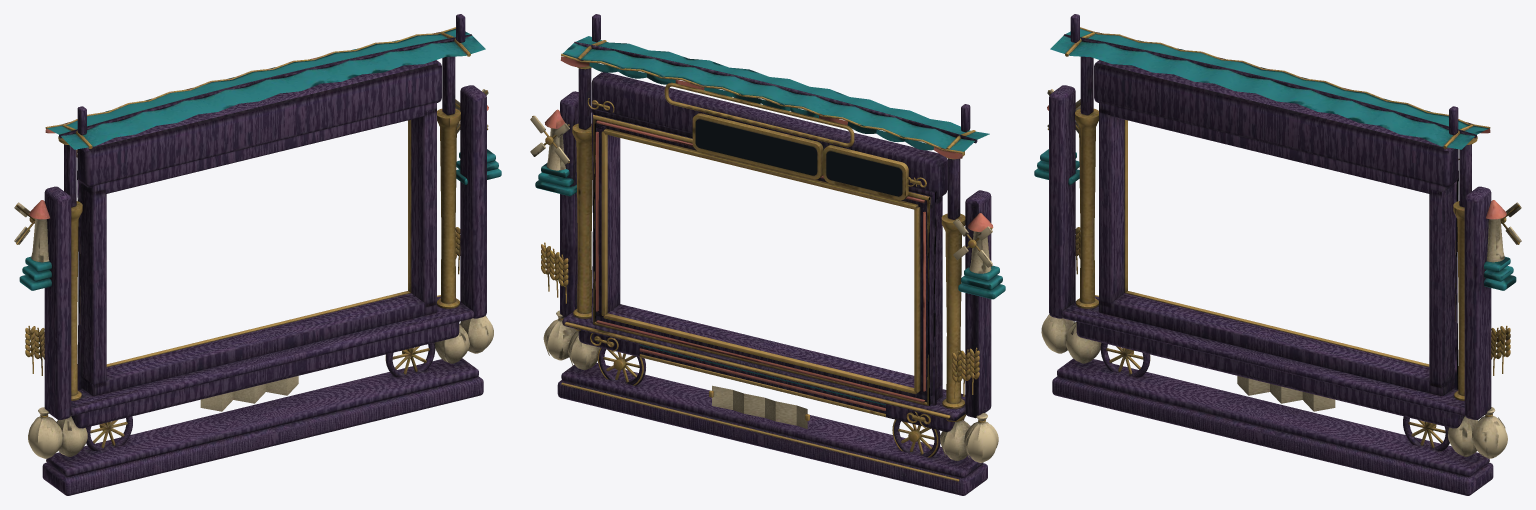
3 renders of one model, left to right at view 1: azimuth 30°, elevation 25°; view 2: azimuth 150°, elevation 25°; view 3: azimuth 330°, elevation 25°, orthographic. The views are drawn at different scales.
Parts seen in each view (by area): view 1: Violet_timber, Teal_cloth, Warm_brass, Linen_parchment; view 2: Violet_timber, Warm_brass, Teal_cloth, Linen_parchment, Display_dark, Coral_paint; view 3: Violet_timber, Teal_cloth, Warm_brass, Linen_parchment.
Boxes of the visible parts, x1,y1,x2,y2 form: Violet_timber: (42,14,486,495); Teal_cloth: (19,28,501,290); Warm_brass: (16,27,488,461); Linen_parchment: (14,89,493,458); Violet_timber: (557,14,991,495); Warm_brass: (532,40,992,481); Teal_cloth: (535,36,1005,405); Linen_parchment: (530,115,998,462); Display_dark: (695,119,902,196); Coral_paint: (545,56,993,410); Violet_timber: (1049,14,1493,495); Teal_cloth: (1034,28,1516,290); Warm_brass: (1047,27,1519,461); Linen_parchment: (1041,89,1521,458).
Size of the model in its own units: 12.2 by 9.4 by 1.53.
6 materials, 6 textured.
